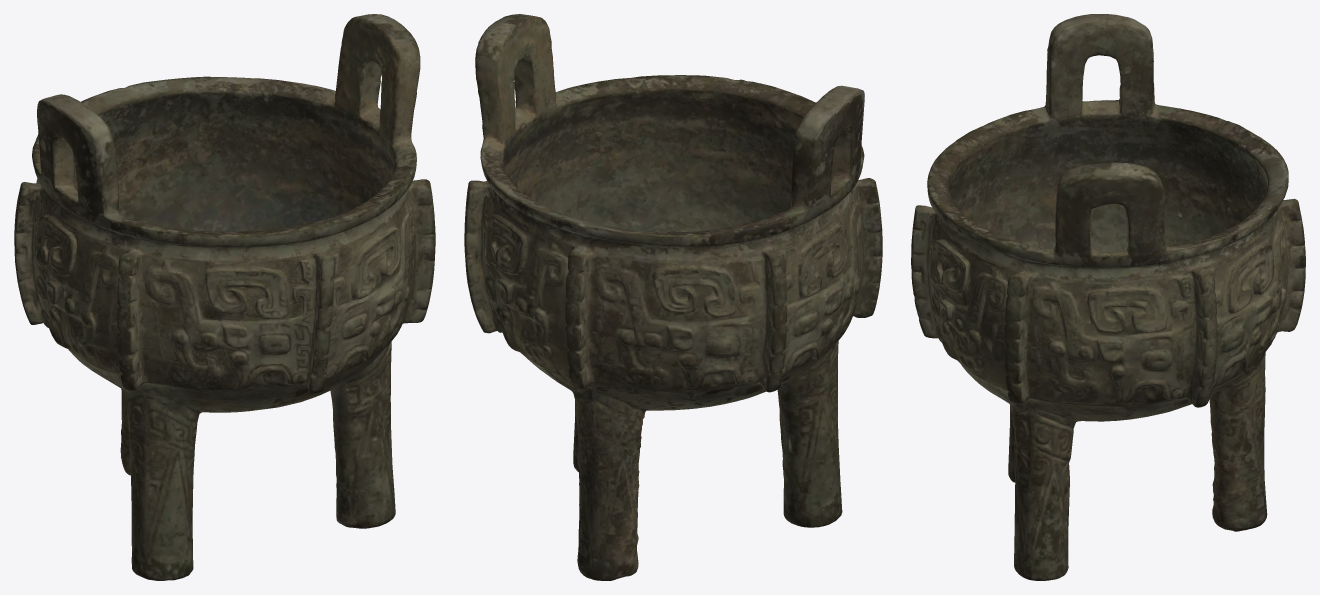
The model's file is heluo-bronze-ding-v5.5-mobile.glb.
3 views of the same model, side by side, from view 1: azimuth 30°, elevation 25°; view 2: azimuth 150°, elevation 25°; view 3: azimuth 270°, elevation 25° (orthographic). The views are drawn at different scales.
Parts seen in each view (by area): view 1: V5_4_CMA_CC0_Object_2; view 2: V5_4_CMA_CC0_Object_2; view 3: V5_4_CMA_CC0_Object_2.
Boxes of the visible parts, <box> form: V5_4_CMA_CC0_Object_2: <box>14,14,435,580</box>; V5_4_CMA_CC0_Object_2: <box>464,14,882,580</box>; V5_4_CMA_CC0_Object_2: <box>911,14,1305,580</box>.
Bounding box in the file's own units: 1.29 × 1.62 × 1.34.
Materials: 1 (1 with a texture image).
